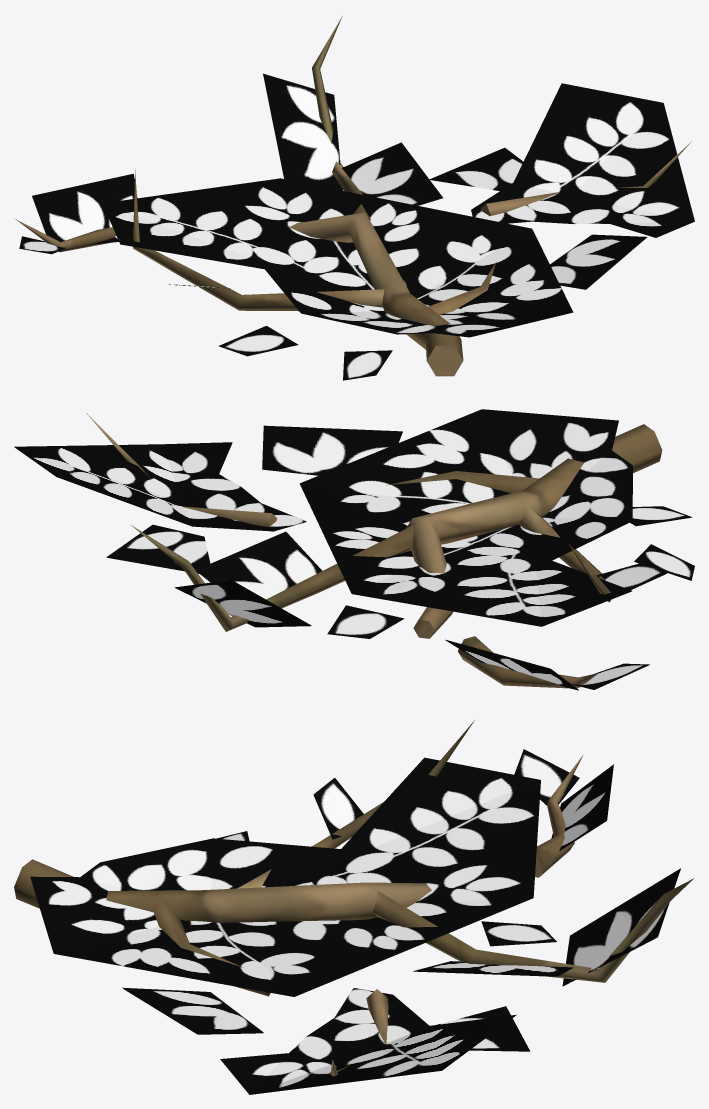
Rendered from P_OakBranch2.obj.
3 renders of one model, top to bottom at view 1: azimuth 30°, elevation 25°; view 2: azimuth 150°, elevation 25°; view 3: azimuth 270°, elevation 25°, orthographic. The views are drawn at different scales.
Bounding box in the file's own units: 2.3 × 0.4363 × 1.9.
